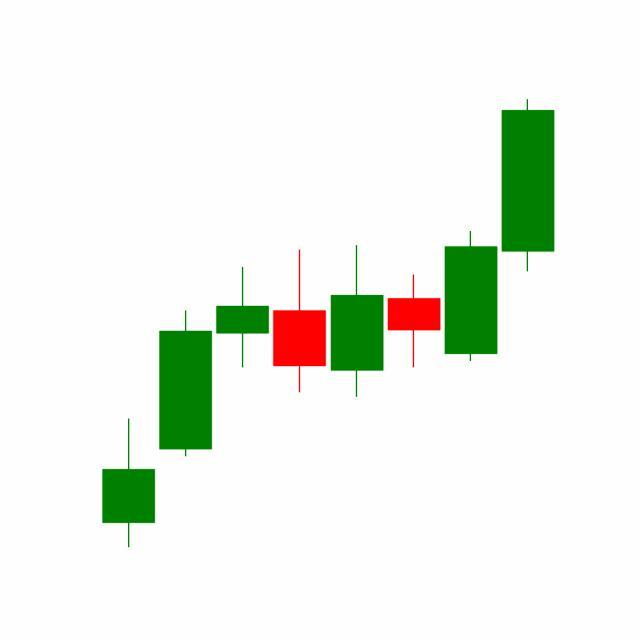Hikkake Pattern: (214, 229, 501, 400)
